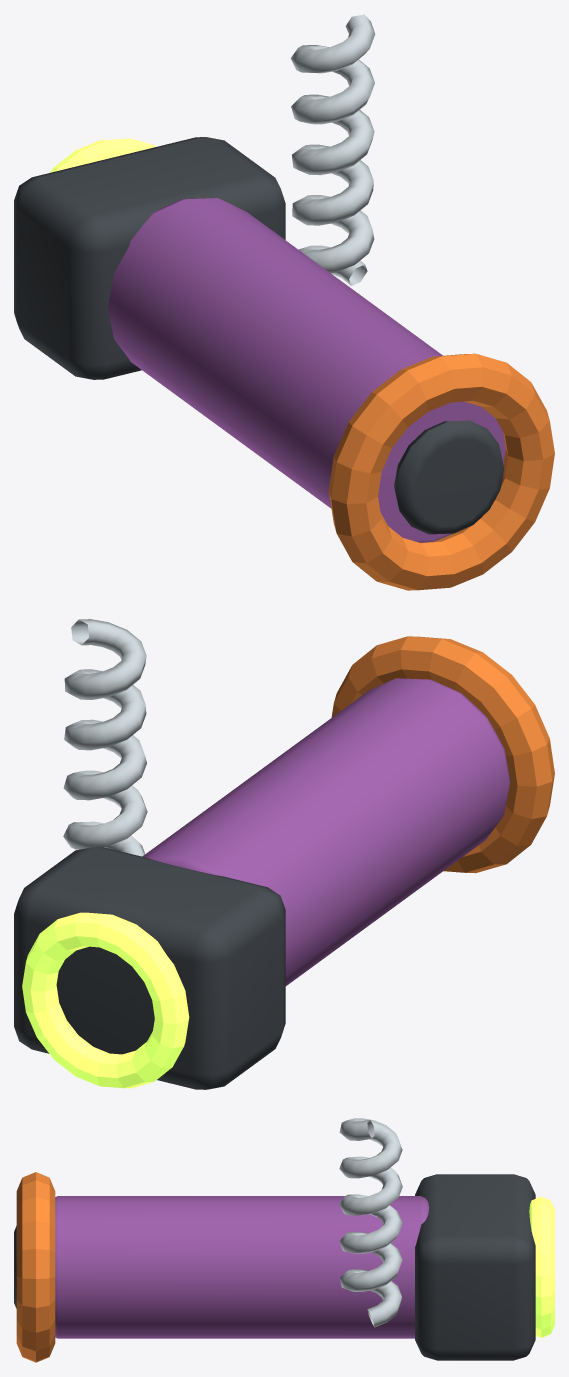
Rendered from module-blaster.glb.
3 views of the same model, one above another, from view 1: azimuth 30°, elevation 25°; view 2: azimuth 150°, elevation 25°; view 3: azimuth 270°, elevation 25° (orthographic). The views are drawn at different scales.
Parts seen in each view (by area): view 1: Scrap rivet barrel, Universal connector.002, Muzzle ring, Barrel recoil spring, Dark muzzle, Standard attachment ring.002; view 2: Scrap rivet barrel, Universal connector.002, Muzzle ring, Standard attachment ring.002, Barrel recoil spring; view 3: Scrap rivet barrel, Universal connector.002, Barrel recoil spring, Muzzle ring, Standard attachment ring.002.
Boxes of the visible parts, <box> form: Scrap rivet barrel: <box>108,198,505,542</box>; Universal connector.002: <box>14,137,285,379</box>; Muzzle ring: <box>328,353,554,590</box>; Barrel recoil spring: <box>291,14,375,285</box>; Dark muzzle: <box>394,420,504,534</box>; Standard attachment ring.002: <box>50,138,156,172</box>; Scrap rivet barrel: <box>142,678,510,985</box>; Universal connector.002: <box>14,847,285,1089</box>; Muzzle ring: <box>331,636,554,873</box>; Standard attachment ring.002: <box>22,912,189,1088</box>; Barrel recoil spring: <box>63,619,147,856</box>; Scrap rivet barrel: <box>55,1196,429,1338</box>; Universal connector.002: <box>415,1174,535,1360</box>; Barrel recoil spring: <box>339,1118,402,1327</box>; Muzzle ring: <box>16,1172,55,1362</box>; Standard attachment ring.002: <box>529,1196,554,1337</box>.
Size of the model in its own units: 0.4125 by 0.5707 by 0.985.
